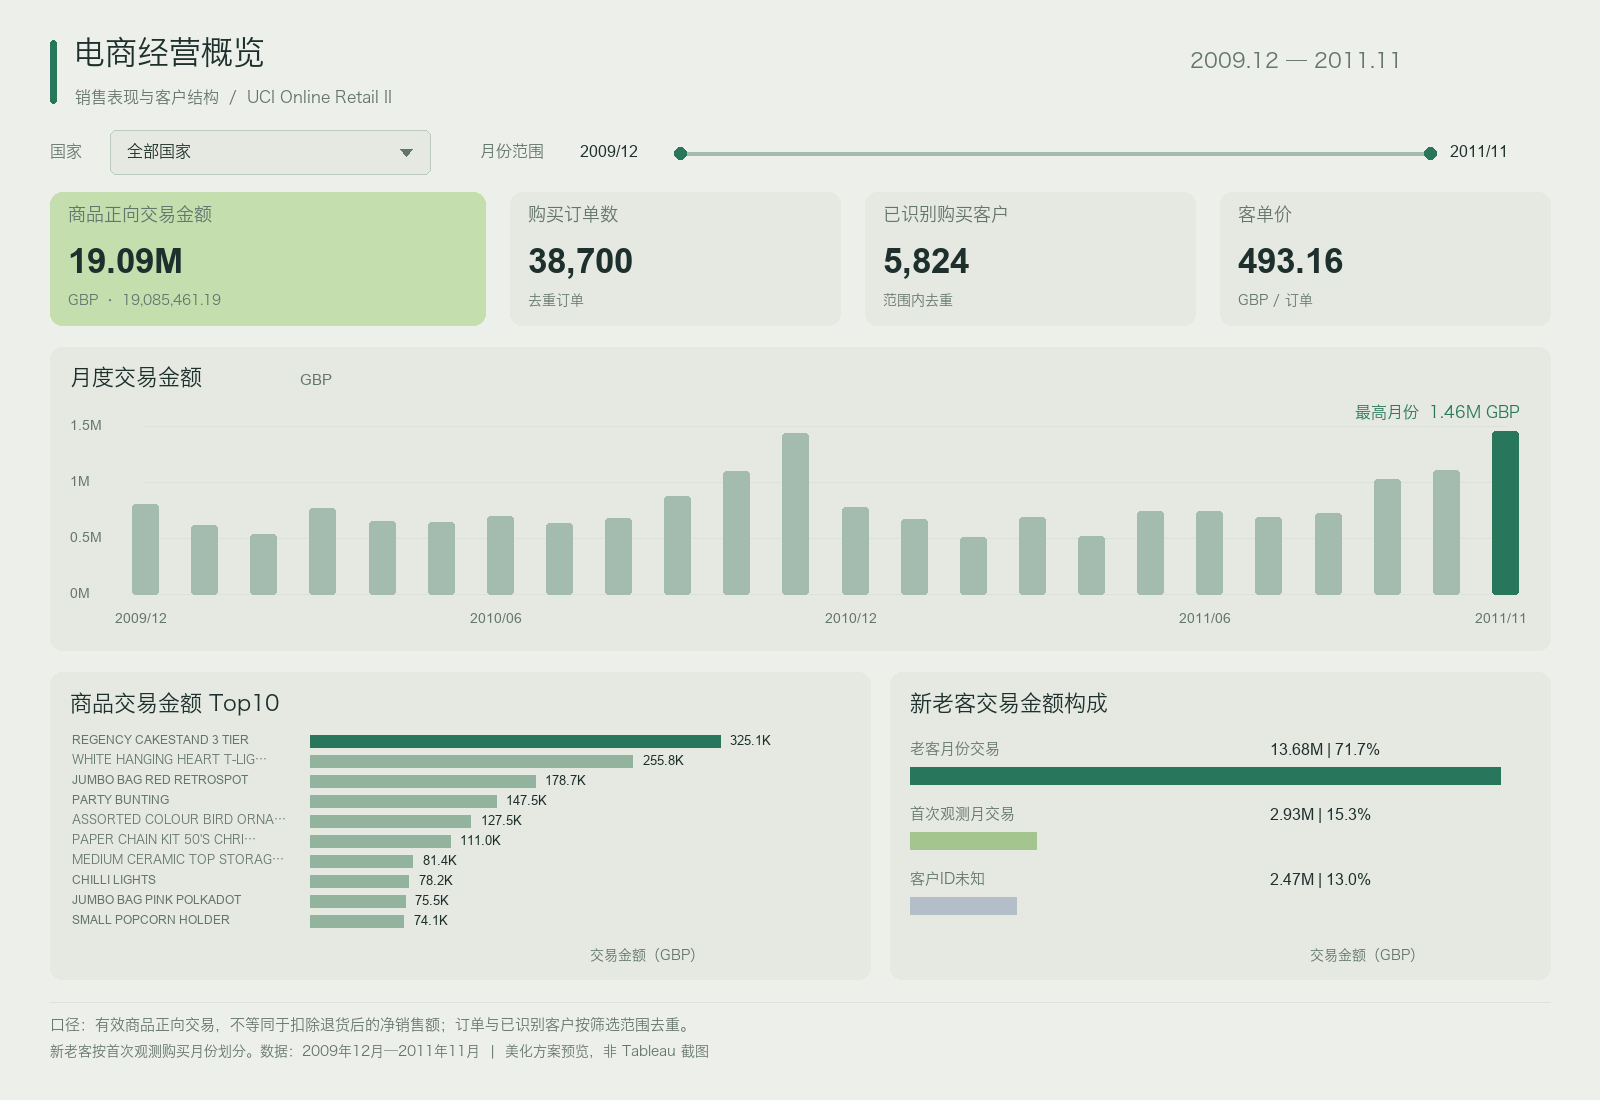

The dashboard page shown, as its layout file describes it:
{"tool":"tableau","page":{"name":"电商经营概览","canvas":[1200,800],"ordinal":0},"visuals":[{"type":"title","box":[8,8,1184,70]},{"type":"filter","title":"经营概览－商品排名","param":"[federated.157g0j00ozi3fg13ckk121qpsyf8].[none:Country:nk]","box":[8,78,430,63]},{"type":"filter","title":"经营概览－月度趋势","param":"[federated.157g0j00ozi3fg13ckk121qpsyf8].[none:Month:qk]","box":[438,78,754,63]},{"type":"worksheet","title":"经营概览－金额","mark":"Text","box":[8,141,296,82]},{"type":"worksheet","title":"经营概览－订单数","mark":"Automatic","box":[304,141,296,82]},{"type":"worksheet","title":"经营概览－客户数","mark":"Automatic","box":[600,141,296,82]},{"type":"worksheet","title":"经营概览－客单价","mark":"Automatic","box":[896,141,296,82]},{"type":"worksheet","title":"经营概览－月度趋势","mark":"Bar","rows":["LineAmount"],"cols":["Month"],"box":[8,222.7,1184,222.3]},{"type":"worksheet","title":"经营概览－商品排名","mark":"Automatic","rows":["StockCode","Calculation_2552719231754242"],"cols":["LineAmount"],"box":[8,445,608,306]},{"type":"worksheet","title":"经营概览－新老客构成","mark":"Bar","rows":["CustomerType"],"cols":["LineAmount"],"box":[616,445,576,306]},{"type":"text","box":[8,751,1184,41]}]}

Visuals, with their boxes on the page's 1200x800 design canvas (x1, y1, x2, y2). These are canvas units, not pixel positions in the 1600x1100 screenshot, which may show the page scaled, cropped or inside an application window:
title: (8,8,1192,78)
"经营概览－商品排名" filter: (8,78,438,141)
"经营概览－月度趋势" filter: (438,78,1192,141)
"经营概览－金额" worksheet (Text marks): (8,141,304,223)
"经营概览－订单数" worksheet: (304,141,600,223)
"经营概览－客户数" worksheet: (600,141,896,223)
"经营概览－客单价" worksheet: (896,141,1192,223)
"经营概览－月度趋势" worksheet (Bar marks): (8,223,1192,445)
"经营概览－商品排名" worksheet: (8,445,616,751)
"经营概览－新老客构成" worksheet (Bar marks): (616,445,1192,751)
text: (8,751,1192,792)
